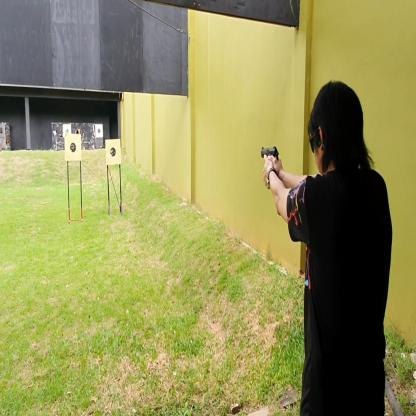handgun: (259, 145, 280, 162)
